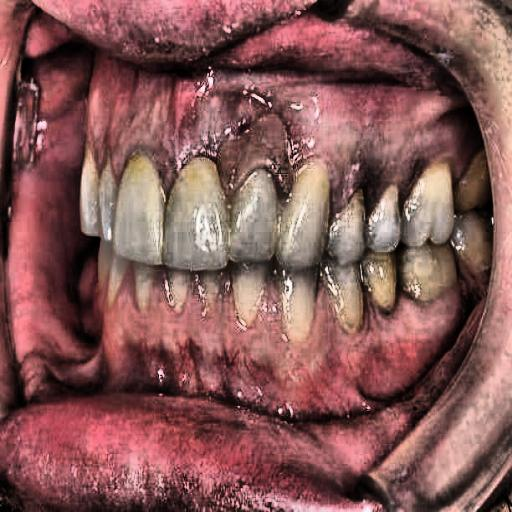Gingivitis: (81, 50, 335, 189), (343, 80, 487, 210)
